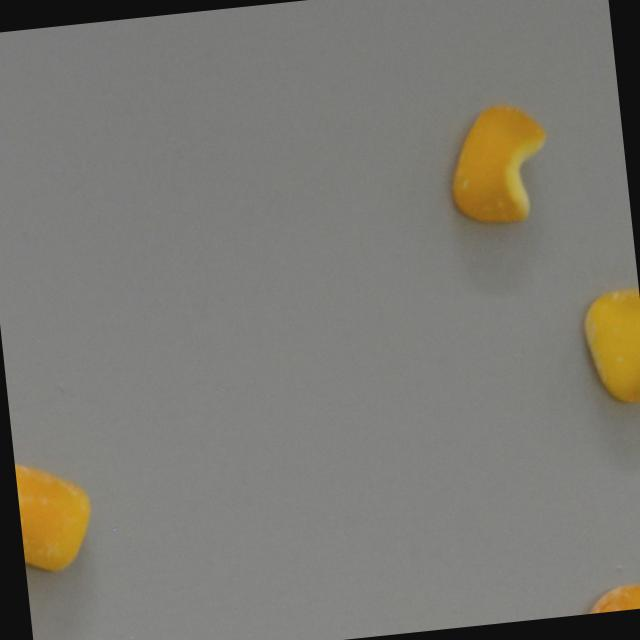no_canjicado: (581, 286, 640, 406)
pelicula: (434, 115, 562, 212), (14, 466, 94, 563), (575, 583, 640, 615)
